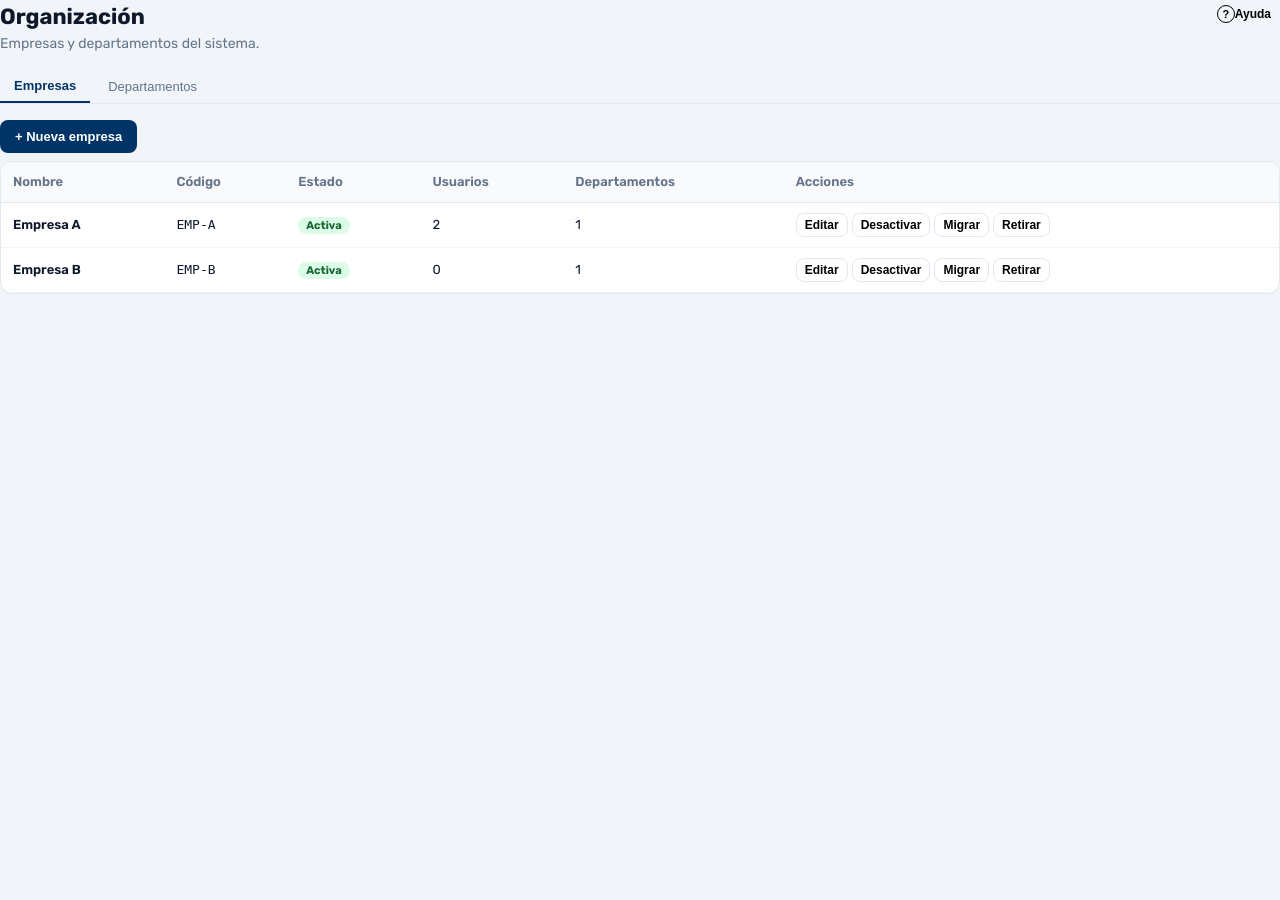
Organización 12I — empresas › migrar: preview, equivalencias, confirmación y resultado
Step 1. Click the button "Migrar" in the row of "Empresa A" → (962, 224), box [934,212,989,236]
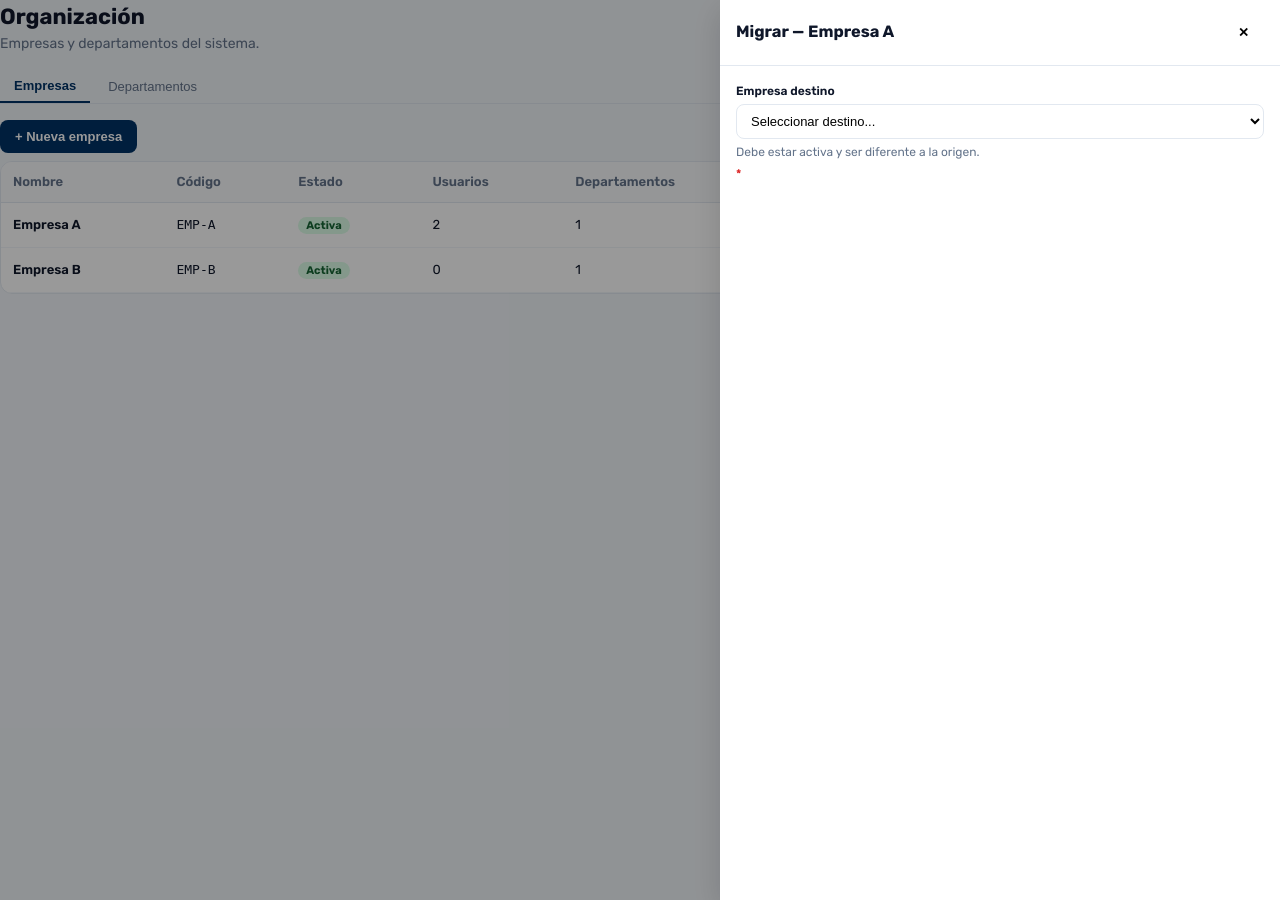
Step 2. Select "Empresa B (EMP-B)" in the dropdown labelled "Empresa destino" → (1000, 122), box [736,104,1264,139]
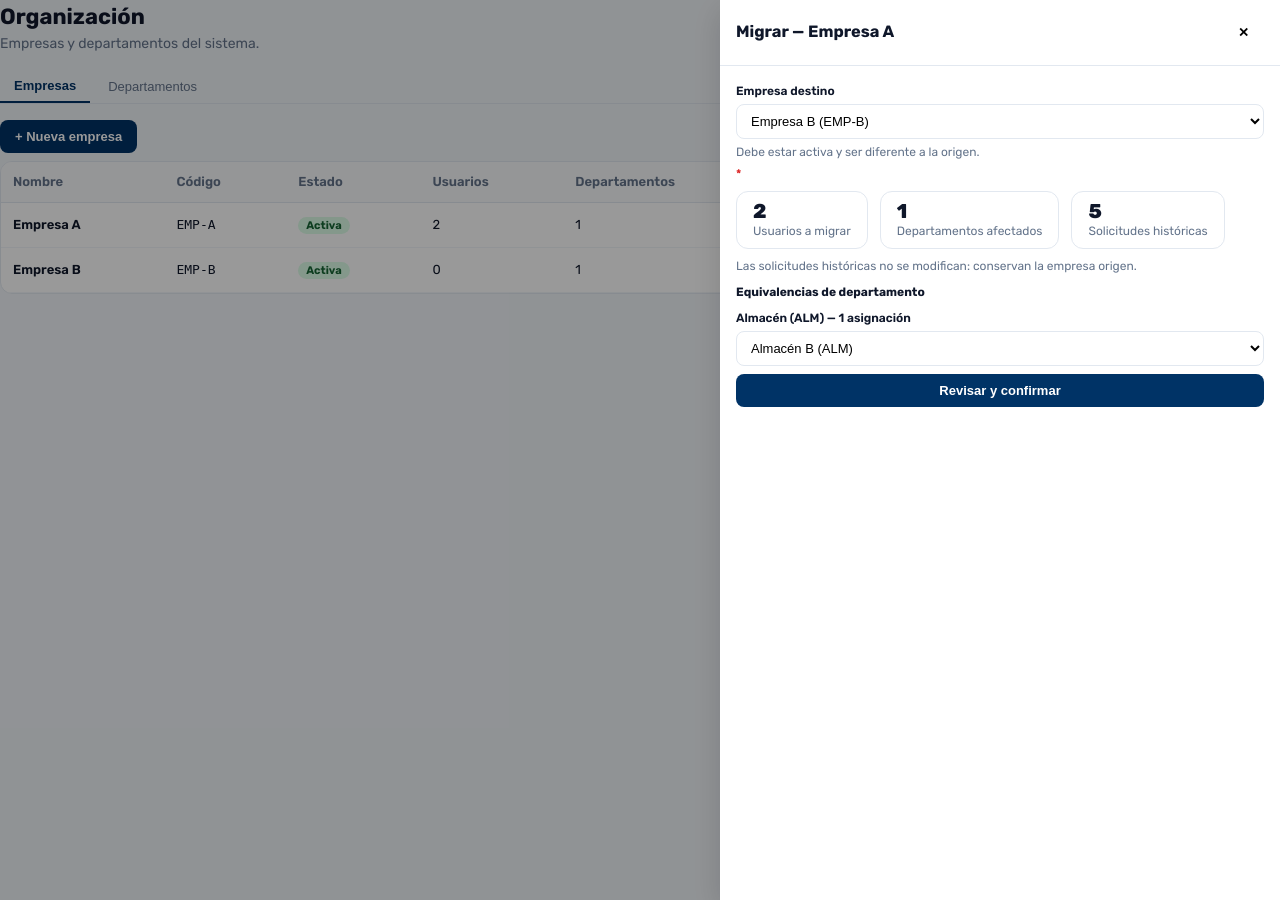
confirmación en dos pasos
Step 3. Click the button "Revisar y confirmar" → (1000, 390), box [736,374,1264,407]
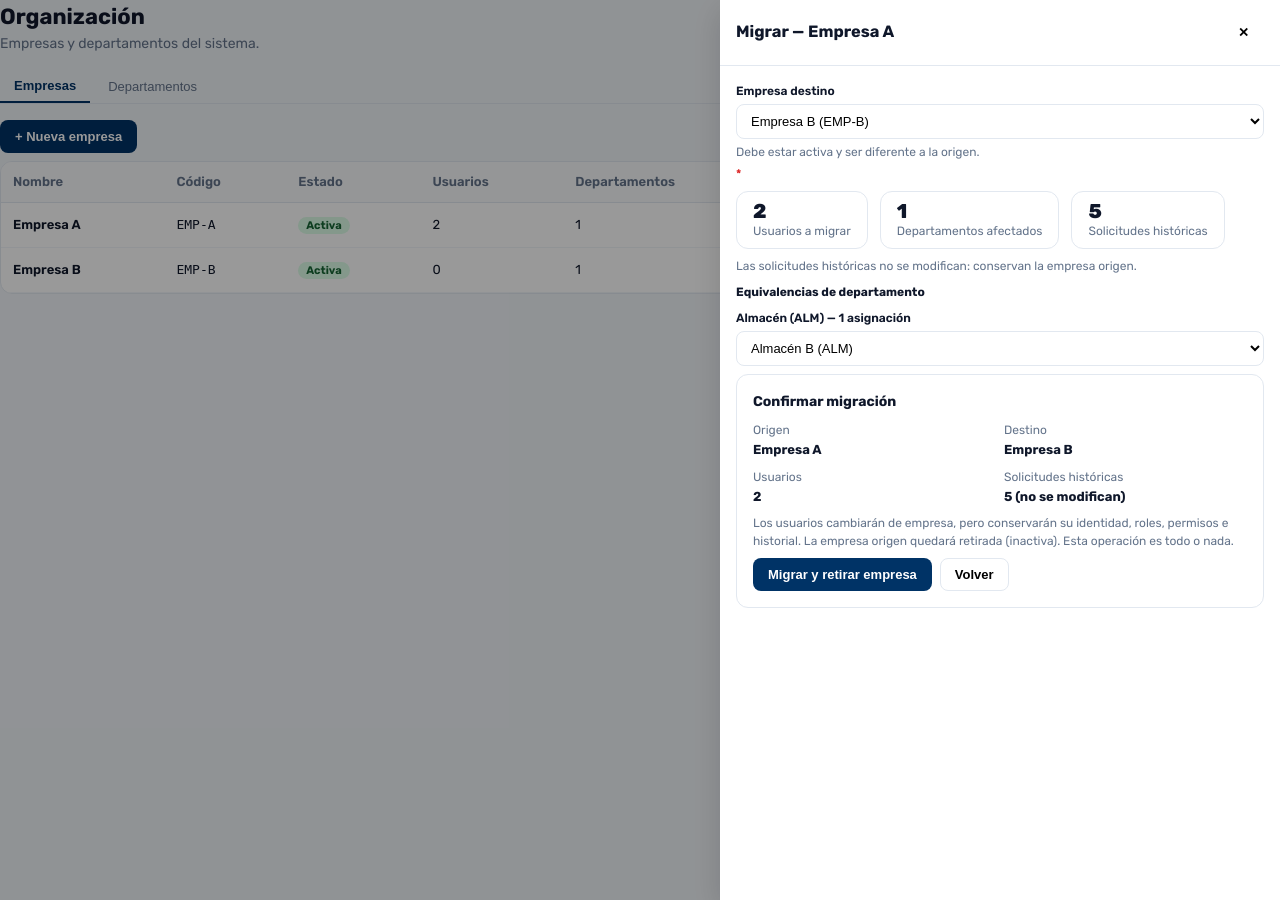
Step 4. Click the button "Migrar y retirar empresa" → (842, 574), box [753,558,932,591]
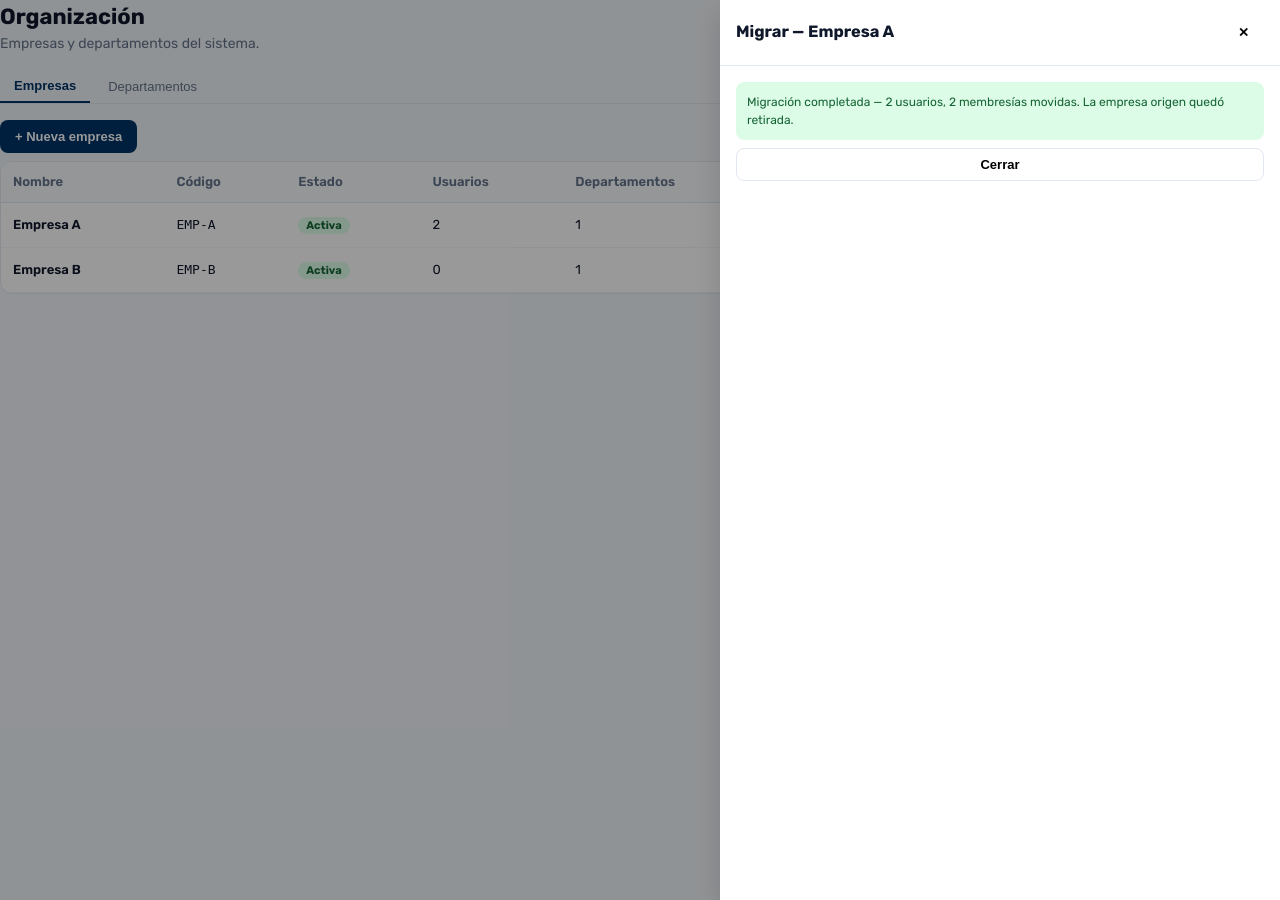
Now the text "Migración completada" is shown, box [747,95,885,109]
